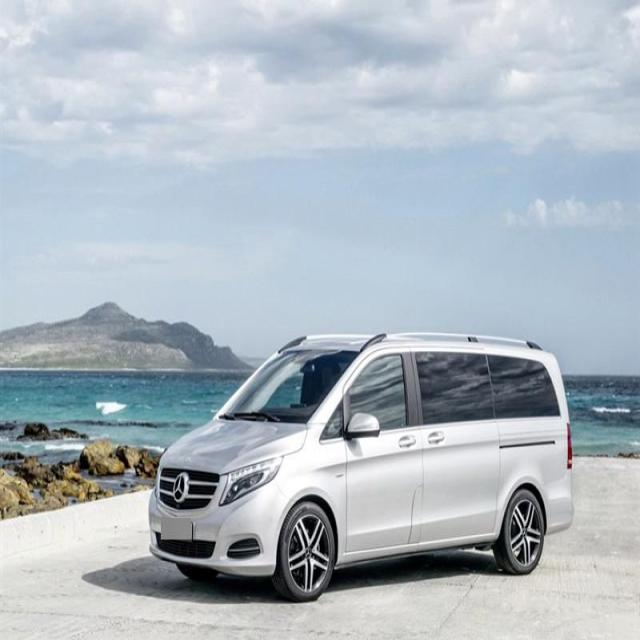back_left_side_light: (566, 421, 573, 467)
door: (412, 349, 504, 542)
front_bumper: (147, 482, 296, 578)
front_glass: (214, 346, 364, 422)
front_left_side_door: (342, 343, 425, 553)
front_left_side_light: (218, 454, 284, 507)
front_left_side_mirror: (347, 412, 380, 439)
wheel: (276, 502, 334, 600), (494, 489, 544, 573)
